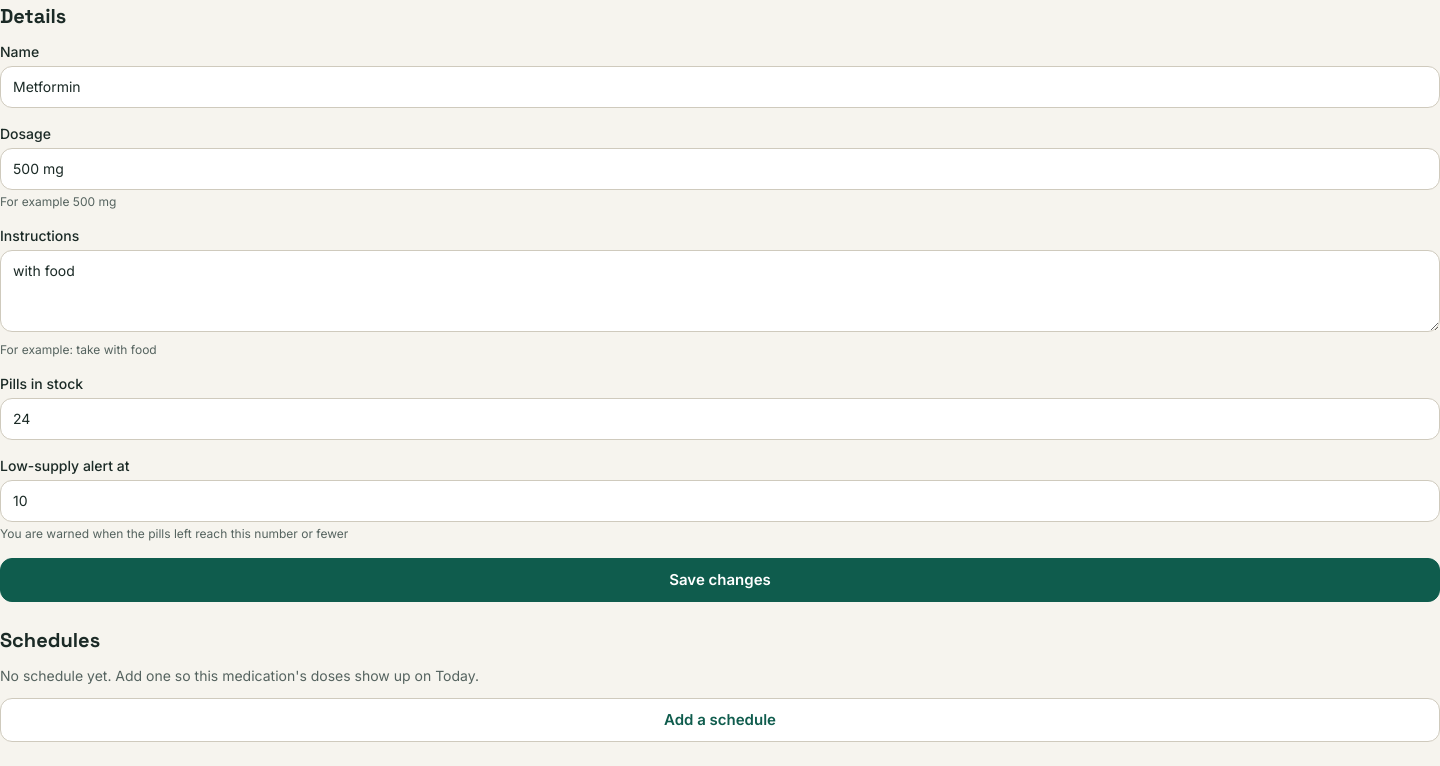
Scenario: schedule editor › shows a schedule problem under the right field
(page scrolled)
Click the button "Add a schedule". click: [720, 720]
box: [0,698,1439,742]
(page scrolled)
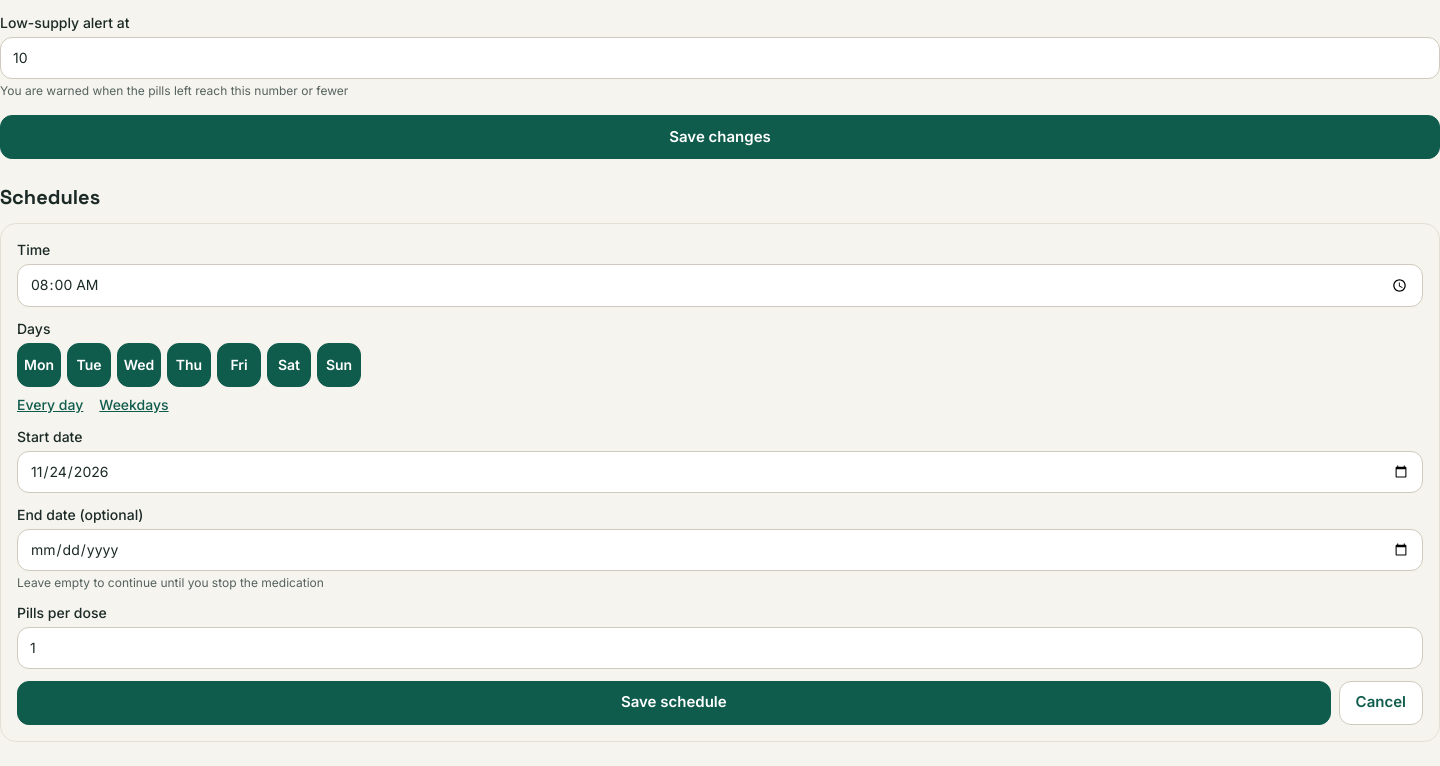
Click the button "Save schedule". click: [674, 703]
box: [17,681,1331,725]
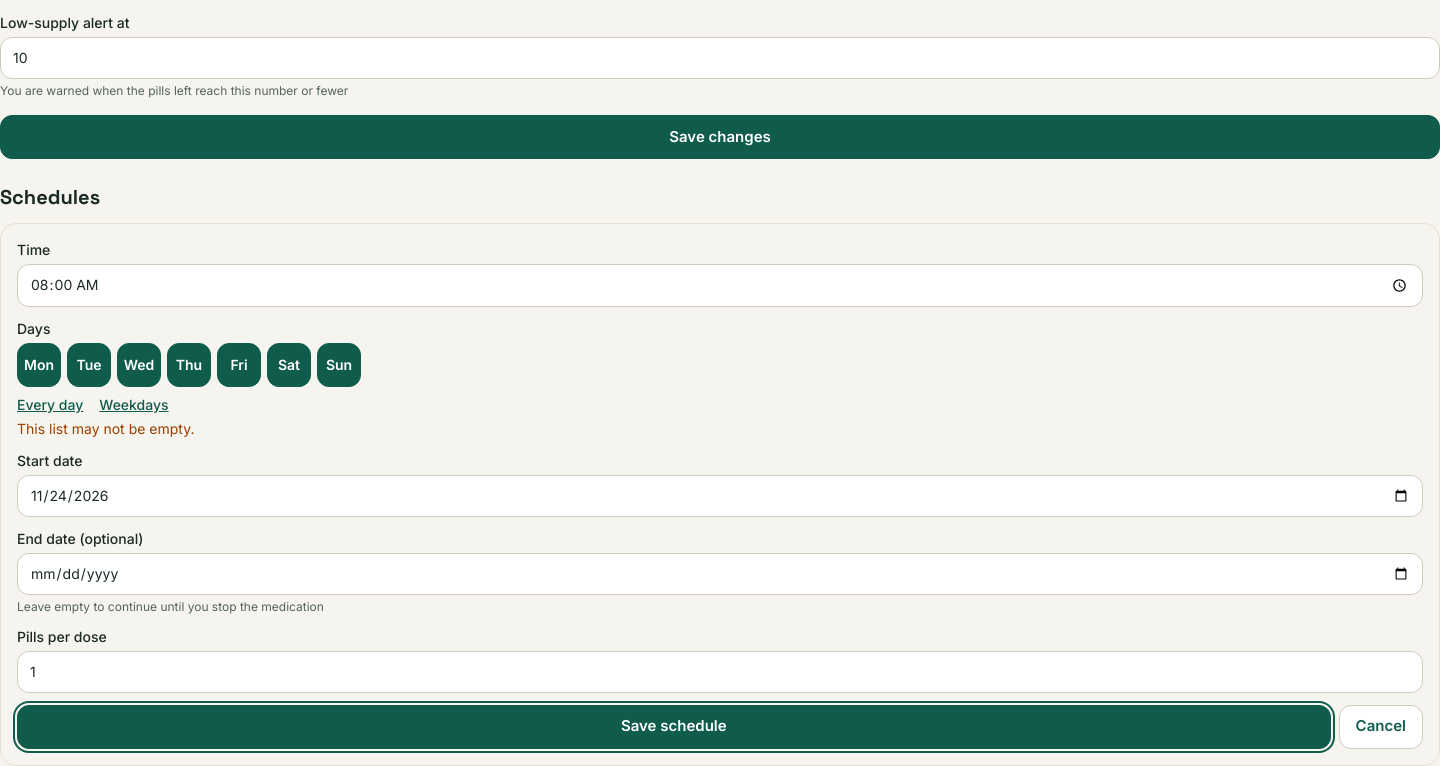
Now the text "This list may not be empty." is shown, box [17,420,194,437]
